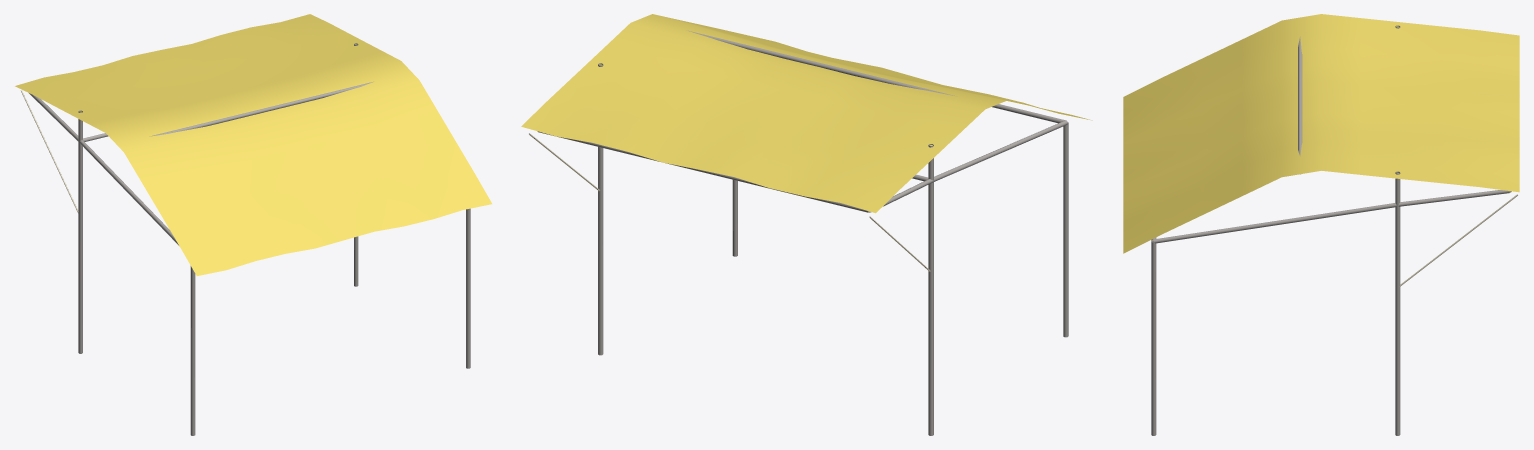
Rendered from carpa_dos_aguas.glb.
The picture shows the model from 3 angles, left to right: view 1: azimuth 30°, elevation 25°; view 2: azimuth 150°, elevation 25°; view 3: azimuth 270°, elevation 25°; orthographic projection. The views are drawn at different scales.
Parts seen in each view (by area): view 1: carpa_dos_aguas_lona, carpa_dos_aguas_tubos; view 2: carpa_dos_aguas_lona, carpa_dos_aguas_tubos; view 3: carpa_dos_aguas_lona, carpa_dos_aguas_tubos.
Boxes of the visible parts, <box> form: carpa_dos_aguas_lona: <box>15,14,491,275</box>; carpa_dos_aguas_tubos: <box>29,43,470,435</box>; carpa_dos_aguas_lona: <box>521,14,1092,213</box>; carpa_dos_aguas_tubos: <box>537,30,1068,435</box>; carpa_dos_aguas_lona: <box>1123,14,1519,253</box>; carpa_dos_aguas_tubos: <box>1151,25,1511,435</box>.
Size of the model in its own units: 3.65 by 2.93 by 3.9.
